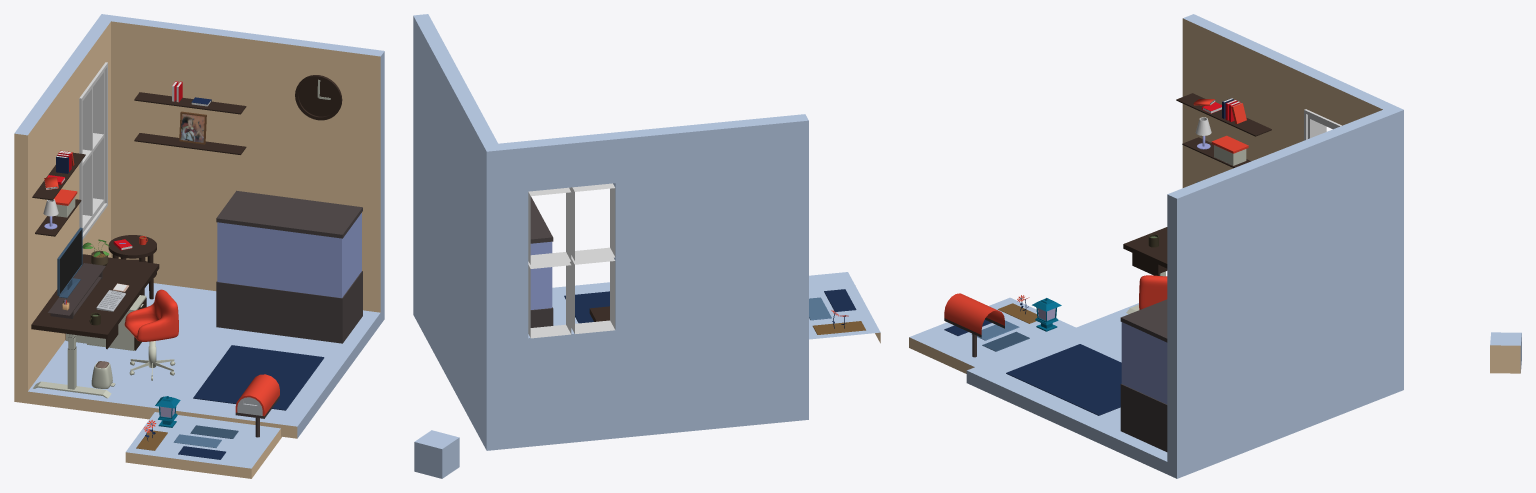
The model's file is james-room.glb.
3 renders of one model, left to right at view 1: azimuth 30°, elevation 25°; view 2: azimuth 150°, elevation 25°; view 3: azimuth 270°, elevation 25°, orthographic. The views are drawn at different scales.
Parts seen in each view (by area): view 1: Plane014_2, Plane014_1, Cube136_1, Cube136, Cylinder012, Cube132_2, Plane014, Cube105, Cylinder010_6, Chair, Cube105_1, Cube132 (+13 smaller); view 2: Plane014_1, Plane014, Cube105, Cube, Cube136, Cube136_1, Cube132_2, Dirt, FloorThird; view 3: Plane014_1, Plane014_2, Cube132_2, Cube136_1, Cube105, Cube136, Cylinder018_1, Cylinder012, Cube, Cylinder010_6, Chair, Cube105_1 (+1 smaller).
Part boxes in pixels (x1,y1,x2,y2): Plane014_2: (14,21,380,438); Plane014_1: (14,14,384,438); Cube136_1: (216,190,362,343); Cube136: (217,213,361,298); Cylinder012: (31,235,159,349); Cube132_2: (193,345,324,410); Plane014: (79,62,107,239); Cube105: (126,412,280,468); Cylinder010_6: (32,92,246,236); Chair: (124,289,178,341); Cube105_1: (125,429,281,478); Cube132: (87,295,175,388); Plane014_1: (413,14,808,450); Plane014: (528,183,615,338); Cube105: (809,272,880,339); Cube: (414,430,459,478); Cube136: (530,241,552,309); Cube136_1: (530,196,553,327); Cube132_2: (564,291,609,323); Dirt: (812,321,865,334); FloorThird: (824,289,856,311); Plane014_1: (966,14,1403,478); Plane014_2: (1182,18,1382,187); Cube132_2: (1006,344,1121,415); Cube136_1: (1120,299,1167,451); Cube105: (909,297,1075,366); Cube136: (1121,322,1167,404); Cylinder018_1: (944,293,1004,334); Cylinder012: (1123,227,1167,275); Cube: (1490,332,1521,373); Cylinder010_6: (1176,93,1271,167); Chair: (1139,275,1167,309); Cube105_1: (909,337,974,373).
Bounding box in the file's own units: 27.58 × 19.65 × 38.64.
Materials: 42 (1 with a texture image).
